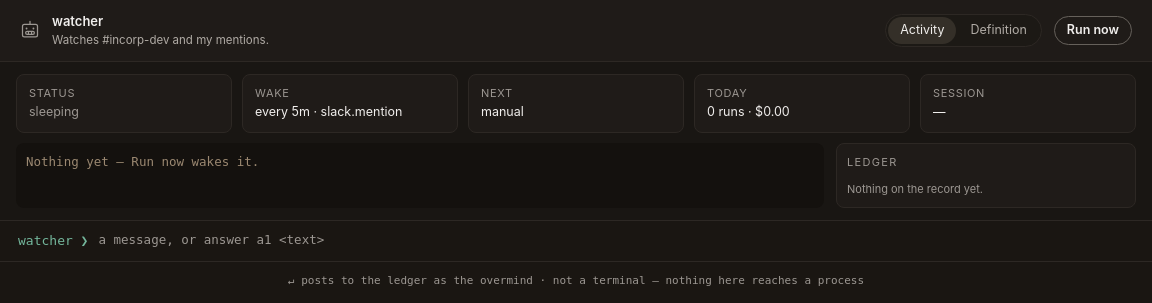
Test: AgentPage — Run now › says why a run refused as working, on Activity
Click the button "Run now" at (1093, 30), box [1054, 16, 1132, 45]
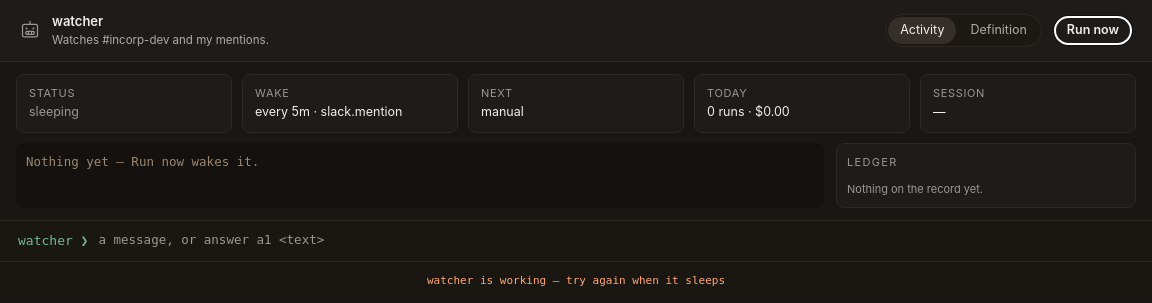
Check: the message shows "is working", box [427, 274, 725, 286]
